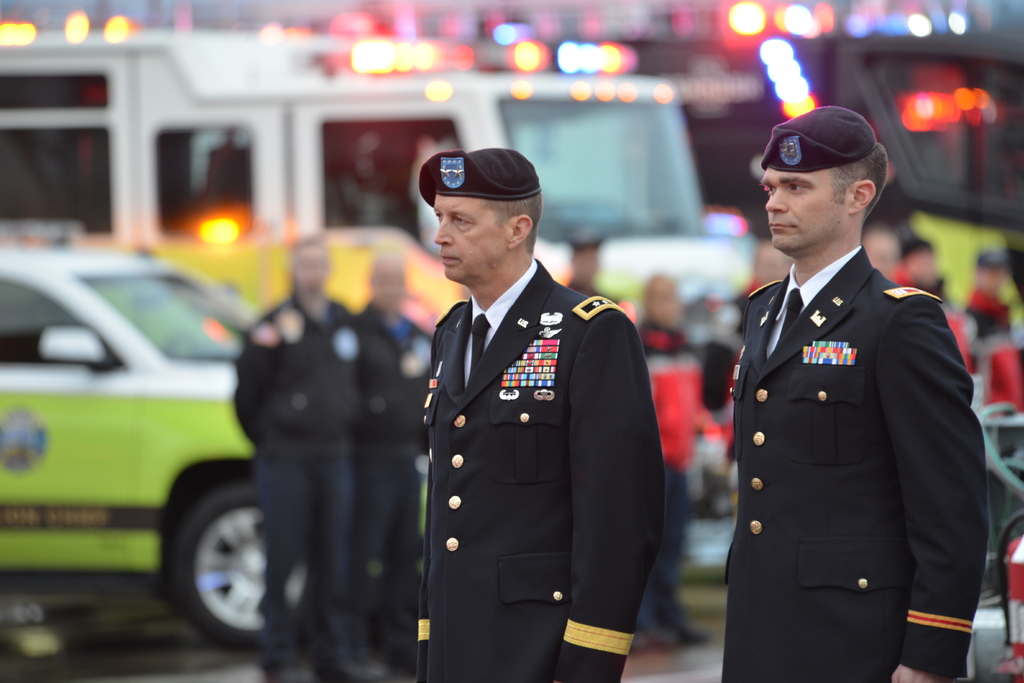Car: (0, 256, 262, 649)
